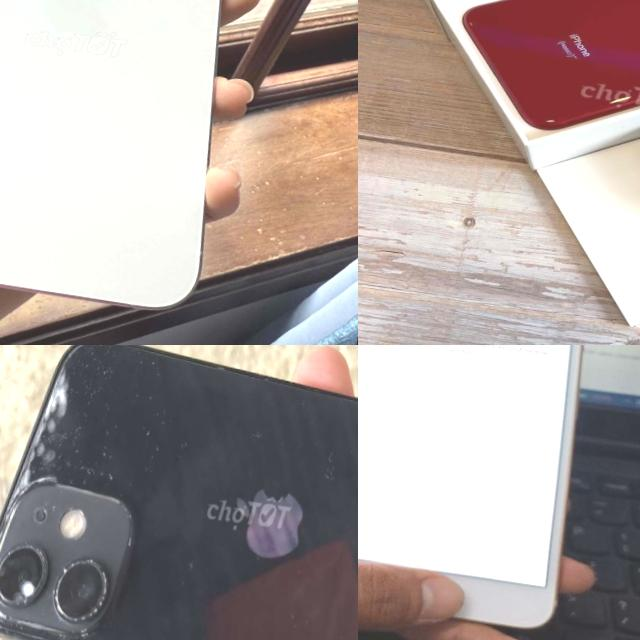scratch: (0, 420, 168, 640), (52, 345, 178, 426)
